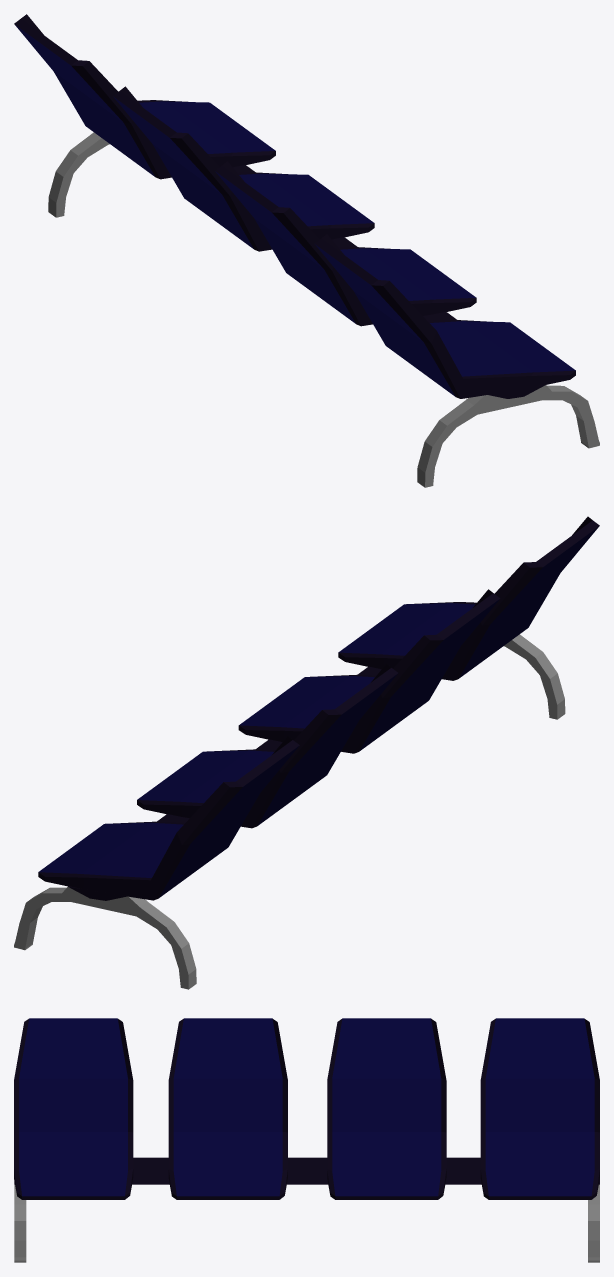
The model's file is airportChairs.fbx.
The picture shows the model from 3 angles, top to bottom: view 1: azimuth 30°, elevation 25°; view 2: azimuth 150°, elevation 25°; view 3: azimuth 270°, elevation 25°; orthographic projection. The views are drawn at different scales.
Parts seen in each view (by area): view 1: Chair.001, Chair.004, Chair.003, Chair.005, Cube; view 2: Chair.005, Chair.003, Chair.004, Chair.001, Cube; view 3: Chair.004, Chair.005, Chair.003, Chair.001, Cube.
Boxes of the visible parts, <box> form: Chair.001: <box>314,234,575,398</box>; Chair.004: <box>113,86,374,251</box>; Chair.003: <box>215,161,476,326</box>; Chair.005: <box>14,14,275,179</box>; Cube: <box>48,132,599,487</box>; Chair.005: <box>38,736,299,900</box>; Chair.003: <box>238,589,500,753</box>; Chair.004: <box>137,664,398,828</box>; Chair.001: <box>338,516,599,680</box>; Cube: <box>14,634,565,989</box>; Chair.004: <box>327,1018,446,1199</box>; Chair.005: <box>480,1018,599,1199</box>; Chair.003: <box>168,1018,287,1199</box>; Chair.001: <box>14,1018,133,1199</box>; Cube: <box>14,1157,599,1262</box>.
Bounding box in the file's own units: 336 × 309 × 1002.
